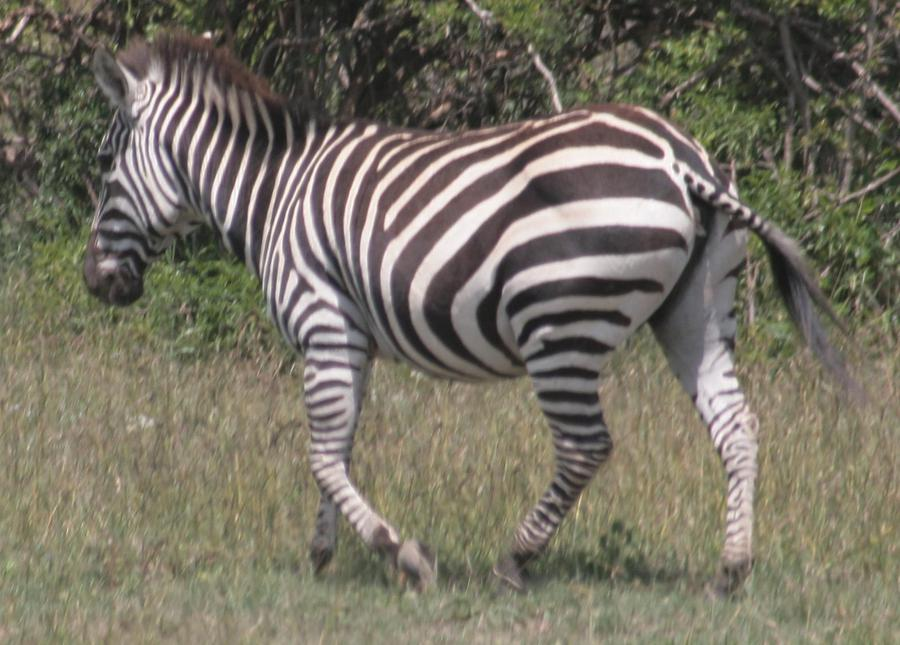zebra_plains: (223, 90, 676, 412)
